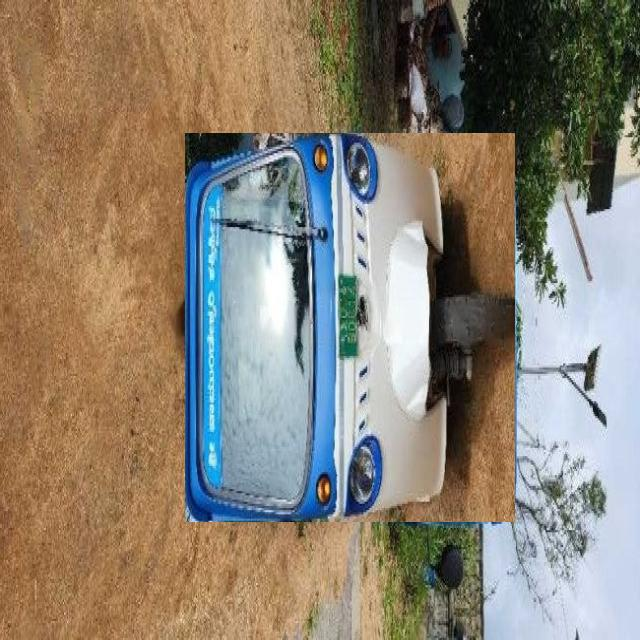autorickshaw: (185, 134, 515, 522)
